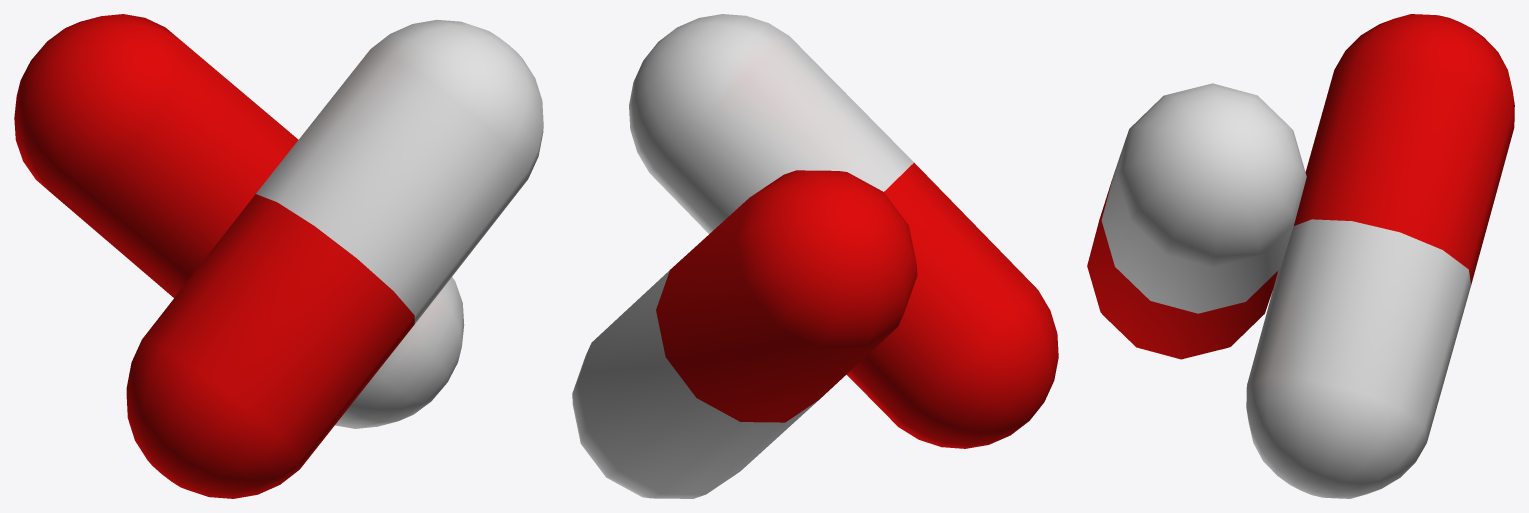
Rendered from Pill.glb.
3 renders of one model, left to right at view 1: azimuth 30°, elevation 25°; view 2: azimuth 150°, elevation 25°; view 3: azimuth 270°, elevation 25°, orthographic. The views are drawn at different scales.
Parts seen in each view (by area): view 1: PillPickup; view 2: PillPickup; view 3: PillPickup.
Part boxes in pixels (x1=…): PillPickup: x1=14, y1=14, x2=543, y2=498; PillPickup: x1=572, y1=14, x2=1058, y2=498; PillPickup: x1=1087, y1=14, x2=1514, y2=498.
Size of the model in its own units: 2.71 by 2.78 by 2.67.
